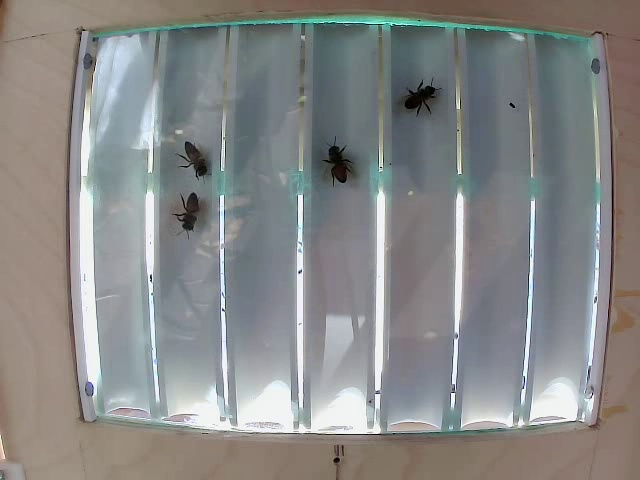bee: (315, 134, 355, 191), (173, 188, 214, 234), (175, 136, 212, 177), (393, 88, 426, 114)
